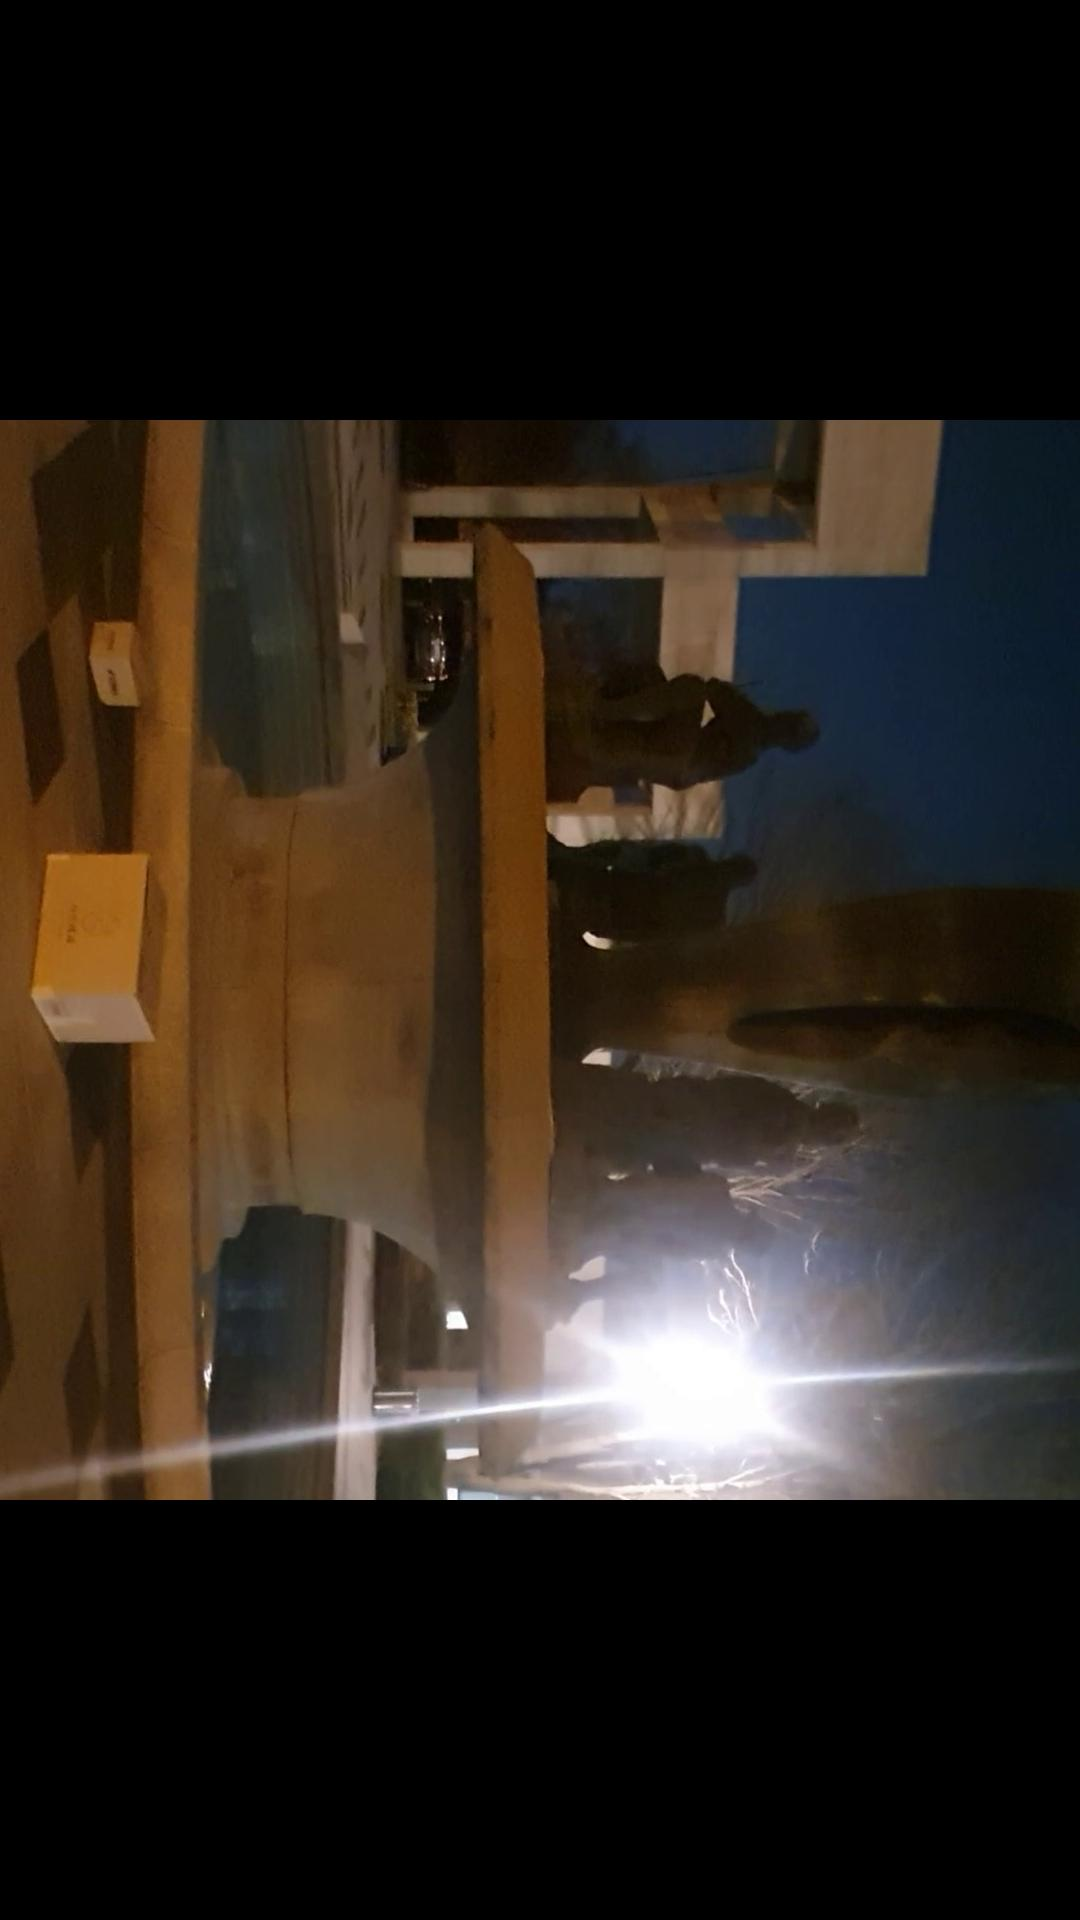Box: (25, 843, 171, 1055), (82, 613, 162, 715)
